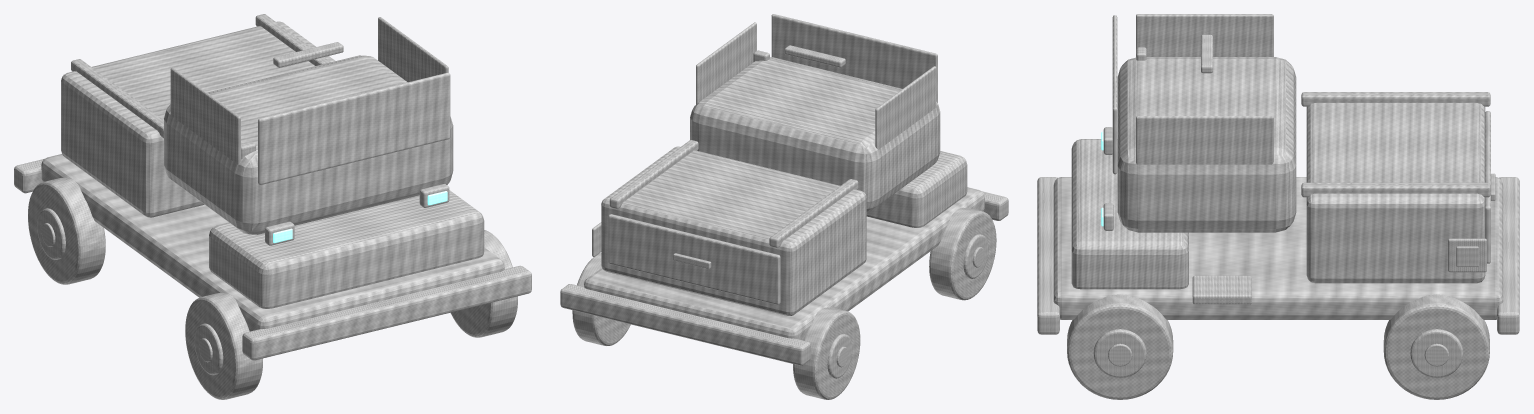
The model's file is tractor_variant_b.glb.
3 renders of one model, left to right at view 1: azimuth 30°, elevation 25°; view 2: azimuth 150°, elevation 25°; view 3: azimuth 270°, elevation 25°, orthographic. The views are drawn at different scales.
Visible parts, largest first — view 1: Cabin shell, Rear cargo body.001, Lower engine cover.001, Ladder chassis.001, Panoramic windshield, Front bumper.001, All-terrain tire.006, All-terrain tire.005, Side glazing, Side glazing.001, All-terrain tire.007, Cargo side rail.003 (+5 smaller); view 2: Cabin shell, Rear cargo body.001, Ladder chassis.001, Rear cargo hatch.001, Rear bumper.001, Panoramic windshield, Lower engine cover.001, All-terrain tire.005, All-terrain tire.006, Side glazing, Side glazing.001, All-terrain tire.008 (+6 smaller); view 3: Rear cargo body.001, Cabin shell, Ladder chassis.001, Lower engine cover.001, All-terrain tire.007, All-terrain tire.008, Side glazing.001, Side glazing, Front bumper.001, Rear bumper.001, Cargo side rail.004, Cargo side rail.003 (+10 smaller).
Boxes of the visible parts, x1,y1,x2,y2 form: Cabin shell: (164, 55, 453, 234); Rear cargo body.001: (61, 21, 335, 217); Lower engine cover.001: (209, 190, 484, 308); Ladder chassis.001: (41, 154, 504, 331); Panoramic windshield: (258, 72, 450, 184); Front bumper.001: (242, 265, 531, 360); All-terrain tire.006: (28, 178, 105, 284); All-terrain tire.005: (185, 293, 262, 399); Side glazing: (170, 67, 240, 164); Side glazing.001: (378, 17, 448, 82); All-terrain tire.007: (450, 230, 517, 337); Cargo side rail.003: (71, 59, 163, 138); Cabin shell: (690, 57, 940, 211); Rear cargo body.001: (601, 146, 866, 315); Ladder chassis.001: (584, 187, 984, 340); Rear cargo hatch.001: (608, 214, 780, 304); Rear bumper.001: (560, 284, 810, 365); Panoramic windshield: (771, 14, 937, 102); Lower engine cover.001: (866, 151, 967, 227); All-terrain tire.005: (929, 207, 996, 300); All-terrain tire.006: (793, 307, 860, 399); Side glazing: (875, 66, 936, 149); Side glazing.001: (696, 22, 756, 104); All-terrain tire.008: (572, 253, 630, 345); Rear cargo body.001: (1306, 103, 1485, 283); Cabin shell: (1117, 57, 1296, 232); Ladder chassis.001: (1053, 177, 1503, 319); Lower engine cover.001: (1071, 139, 1188, 289); All-terrain tire.007: (1067, 294, 1173, 399); All-terrain tire.008: (1383, 294, 1489, 399); Side glazing.001: (1136, 116, 1273, 164); Side glazing: (1136, 14, 1273, 56); Front bumper.001: (1037, 177, 1059, 334); Rear bumper.001: (1497, 177, 1519, 334); Cargo side rail.004: (1301, 182, 1490, 197); Cargo side rail.003: (1301, 92, 1490, 106).
Size of what is drawn, in the model's own units: 3.35 by 3.04 by 4.72.
7 materials, 7 textured.
